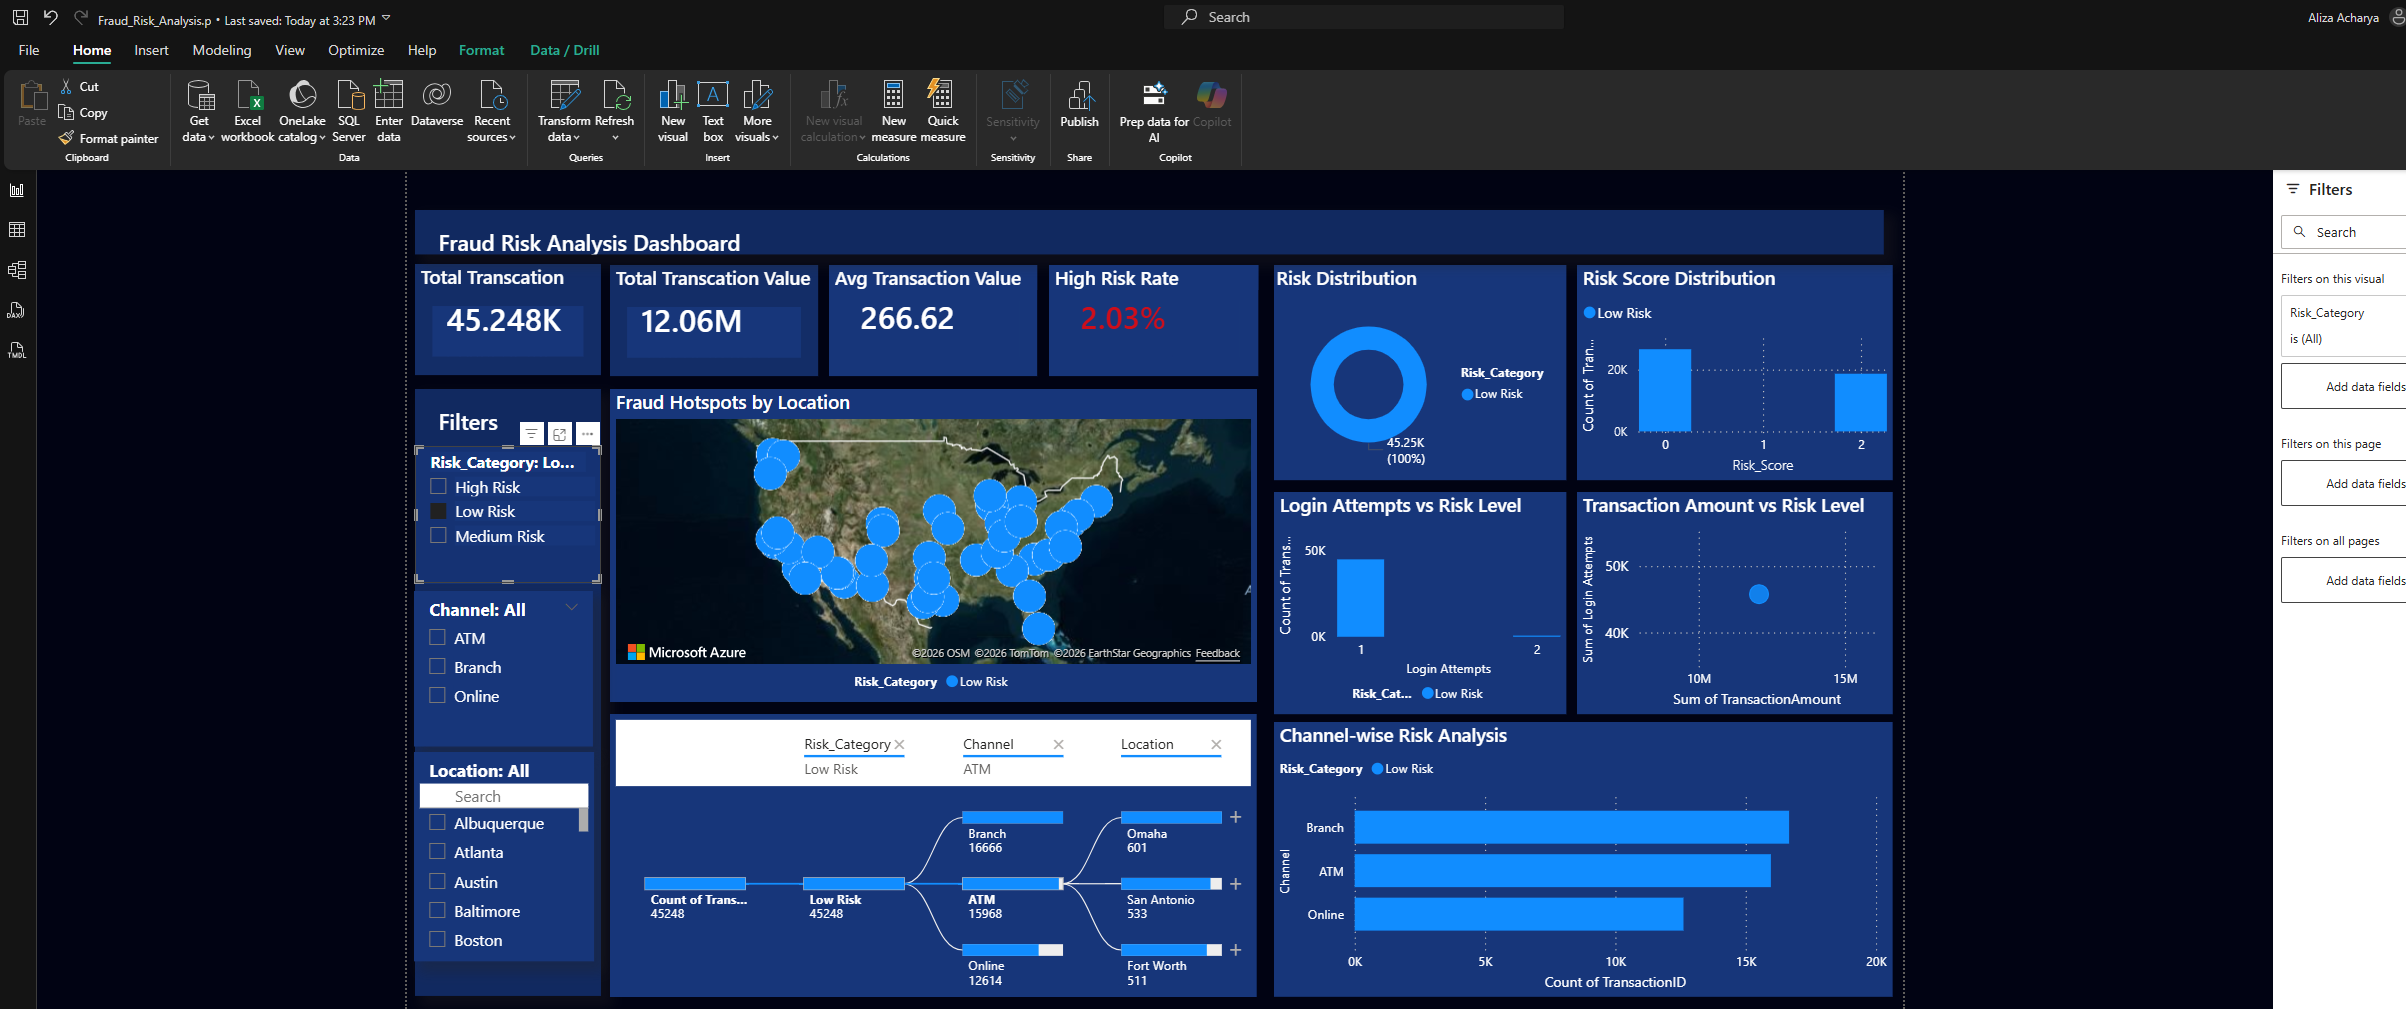

This screenshot's page, from the dashboard's own definition file:
{"tool":"powerbi","page":{"name":"Page 1","canvas":[1280,720],"ordinal":0},"visuals":[{"type":"textbox","title":"Filters","box":[6.9,187.5,159,519.3],"z":0},{"type":"cardVisual","title":"Total Transcation","fields":{"Data":["CountNonNull(fraud_risk_analysis_transactions csv.TransactionID)"]},"box":[6.9,80.5,159,95.2],"z":2000},{"type":"cardVisual","title":"Avg Transaction Value","fields":{"Data":["Avg(fraud_risk_analysis_transactions csv.TransactionAmount)"]},"box":[361.2,81.5,178,95],"z":3000},{"type":"barChart","title":"Channel-wise Risk Analysis","fields":{"Y":["CountNonNull(fraud_risk_analysis_transactions csv.TransactionID)"],"Category":["fraud_risk_analysis_transactions csv.Channel"],"Series":["fraud_risk_analysis_transactions csv.Risk_Category"]},"box":[741.5,472.3,528.8,234.8],"z":4000},{"type":"clusteredColumnChart","title":"Login Attempts vs Risk Level","fields":{"Category":["fraud_risk_analysis_transactions csv.LoginAttempts"],"Y":["CountNonNull(fraud_risk_analysis_transactions csv.TransactionID)"],"Series":["fraud_risk_analysis_transactions csv.Risk_Category"]},"box":[741.5,275.4,249.8,189.8],"z":5000},{"type":"donutChart","title":"Risk Distribution","fields":{"Category":["fraud_risk_analysis_transactions csv.Risk_Category"],"Y":["CountNonNull(fraud_risk_analysis_transactions csv.TransactionID)"]},"box":[741.5,81.2,249.8,183.6],"z":6000},{"type":"clusteredColumnChart","title":"Risk Score Distribution","fields":{"Category":["fraud_risk_analysis_transactions csv.Risk_Score"],"Y":["CountNonNull(fraud_risk_analysis_transactions csv.TransactionID)"],"Series":["fraud_risk_analysis_transactions csv.Risk_Category"]},"box":[1000.2,81.2,270.1,183.6],"z":7000},{"type":"scatterChart","title":"Transaction Amount vs Risk Level","fields":{"X":["Sum(fraud_risk_analysis_transactions csv.TransactionAmount)"],"Y":["Sum(fraud_risk_analysis_transactions csv.LoginAttempts)"],"Size":["Sum(fraud_risk_analysis_transactions csv.Risk_Score)"],"Series":["fraud_risk_analysis_transactions csv.Risk_Category"]},"box":[1000.2,275.4,270.1,189.8],"z":8000},{"type":"azureMap","title":"Fraud Hotspots by Location","fields":{"Category":["fraud_risk_analysis_transactions csv.Location"],"Size":["CountNonNull(fraud_risk_analysis_transactions csv.TransactionID)"],"Series":["fraud_risk_analysis_transactions csv.Risk_Category"]},"box":[173.9,187.1,553.5,267.5],"z":10000},{"type":"slicer","fields":{"Values":["fraud_risk_analysis_transactions csv.Risk_Category"]},"box":[6.9,235.6,159,117.8],"z":11000},{"type":"slicer","fields":{"Values":["fraud_risk_analysis_transactions csv.Channel"]},"box":[5.9,360.2,153.1,133.5],"z":12000},{"type":"slicer","fields":{"Values":["fraud_risk_analysis_transactions csv.Location"]},"box":[5.9,497.7,154.1,178.7],"z":13000},{"type":"cardVisual","title":"Total Transcation Value","fields":{"Data":["Sum(fraud_risk_analysis_transactions csv.TransactionAmount)"]},"box":[173.7,81.5,178,95],"z":14000},{"type":"textbox","title":"Fraud Risk Analysis Dashboard","box":[6.9,34.4,1256.4,38.3],"z":15000},{"type":"cardVisual","title":"High Risk Rate","fields":{"Data":["fraud_risk_analysis_transactions csv.HighRisk %"]},"box":[548.7,81.5,178.7,95.2],"z":16000},{"type":"decompositionTreeVisual","fields":{"Analyze":["CountNonNull(fraud_risk_analysis_transactions csv.TransactionID)"],"ExplainBy":["fraud_risk_analysis_transactions csv.Risk_Category","fraud_risk_analysis_transactions csv.Channel","fraud_risk_analysis_transactions csv.Location","fraud_risk_analysis_transactions csv.LoginAttempts"]},"box":[173.9,465.2,553.5,241.9],"z":17000}]}

Visuals, with their boxes on the page's 1280x720 design canvas (x1, y1, x2, y2). These are canvas units, not pixel positions in the 2406x1009 screenshot, which may show the page scaled, cropped or inside an application window:
"Filters" textbox: 7,188,166,707
"Total Transcation" cardVisual: 7,80,166,176
"Avg Transaction Value" cardVisual: 361,82,539,176
"Channel-wise Risk Analysis" barChart: 742,472,1270,707
"Login Attempts vs Risk Level" clusteredColumnChart: 742,275,991,465
"Risk Distribution" donutChart: 742,81,991,265
"Risk Score Distribution" clusteredColumnChart: 1000,81,1270,265
"Transaction Amount vs Risk Level" scatterChart: 1000,275,1270,465
"Fraud Hotspots by Location" azureMap: 174,187,727,455
slicer - fraud_risk_analysis_transactions csv.Risk_Category: 7,236,166,353
slicer - fraud_risk_analysis_transactions csv.Channel: 6,360,159,494
slicer - fraud_risk_analysis_transactions csv.Location: 6,498,160,676
"Total Transcation Value" cardVisual: 174,82,352,176
"Fraud Risk Analysis Dashboard" textbox: 7,34,1263,73
"High Risk Rate" cardVisual: 549,82,727,177
decompositionTreeVisual - CountNonNull(fraud_risk_analysis_transactions csv.TransactionID) x fraud_risk_analysis_transactions csv.Risk_Category: 174,465,727,707
